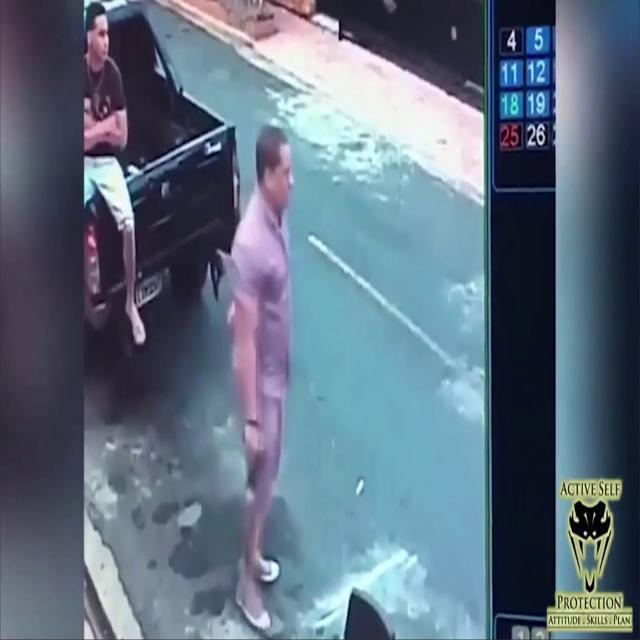gun: (242, 428, 264, 503)
